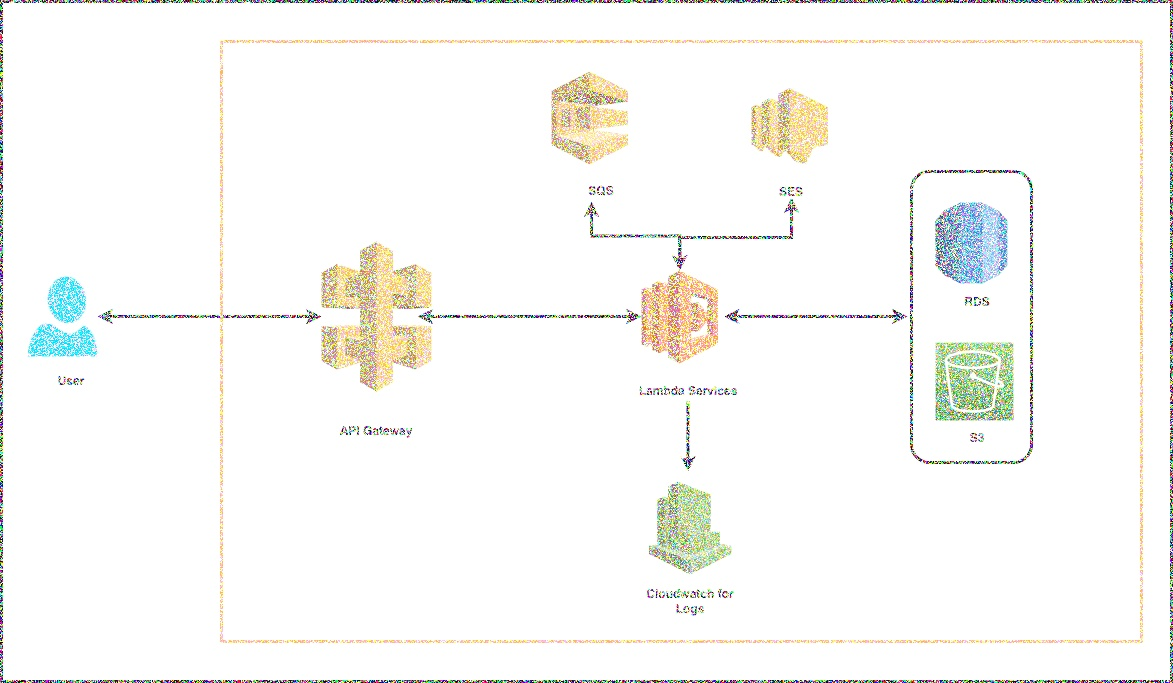API-Gateway: (317, 231, 441, 394)
Cloud Watch: (641, 477, 737, 576)
Dynamo DB: (931, 191, 1013, 288)
Lambda: (635, 269, 728, 369)
S3: (927, 329, 1020, 428)
SES: (743, 77, 836, 173)
SQS: (543, 61, 636, 168)
Users: (19, 261, 103, 365)
